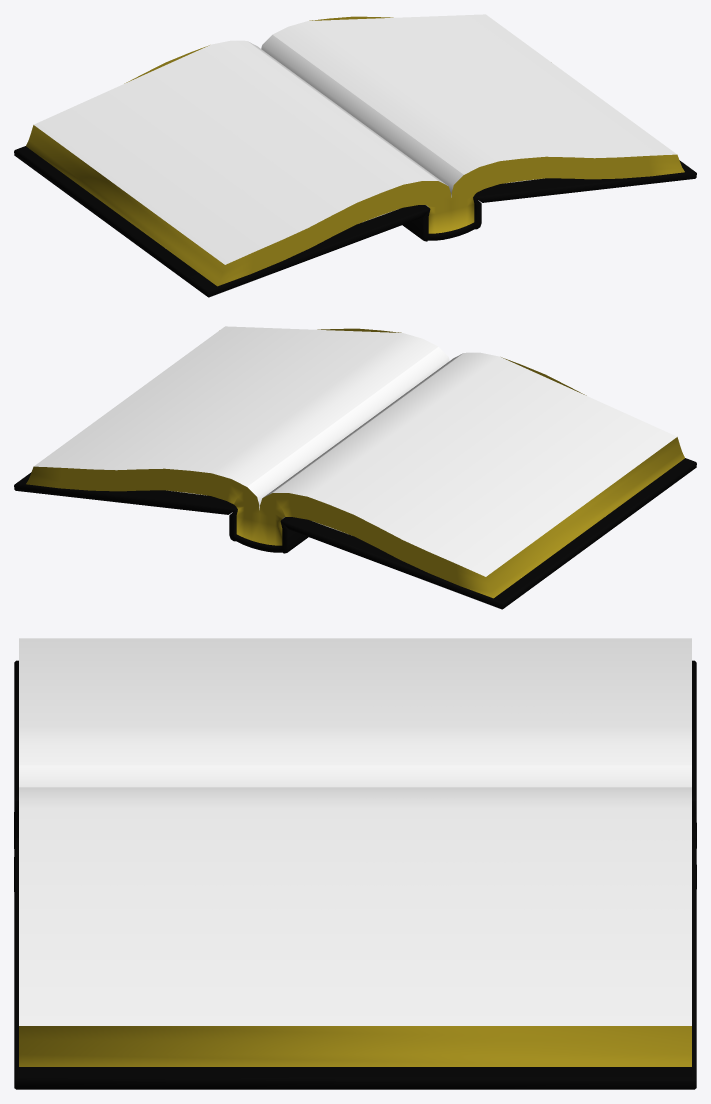
File: book_open.glb
3 renders of one model, top to bottom at view 1: azimuth 30°, elevation 25°; view 2: azimuth 150°, elevation 25°; view 3: azimuth 270°, elevation 25°, orthographic. The views are drawn at different scales.
Visible parts, largest first — view 1: blank, page_edge, cover; view 2: blank, page_edge, cover; view 3: blank, page_edge, cover.
Part boxes in pixels (x1,y1,x2,y2): blank: [34, 14, 676, 264]; page_edge: [26, 16, 684, 286]; cover: [14, 146, 696, 297]; blank: [34, 326, 676, 576]; page_edge: [26, 328, 684, 598]; cover: [14, 458, 696, 609]; blank: [19, 638, 691, 1025]; page_edge: [19, 1026, 691, 1066]; cover: [14, 660, 696, 1089].
Size of the model in its own units: 0.6268 by 0.0805 by 0.4308.
